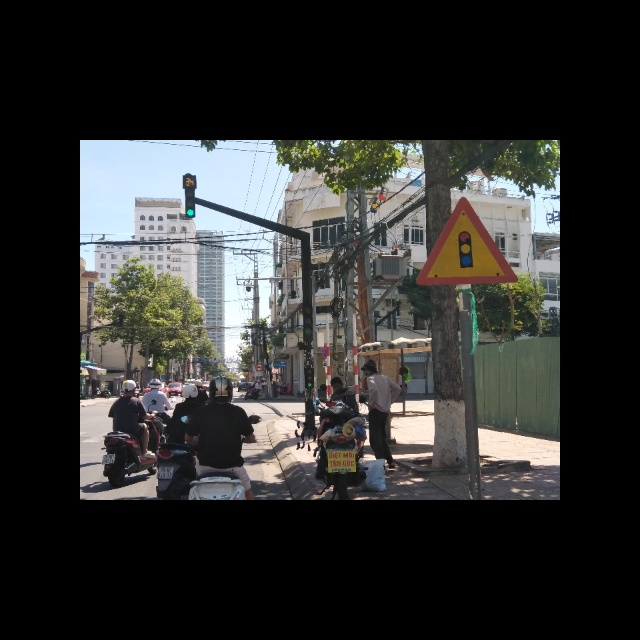Giao nhau có tín hiệu đèn: (413, 198, 516, 286)
